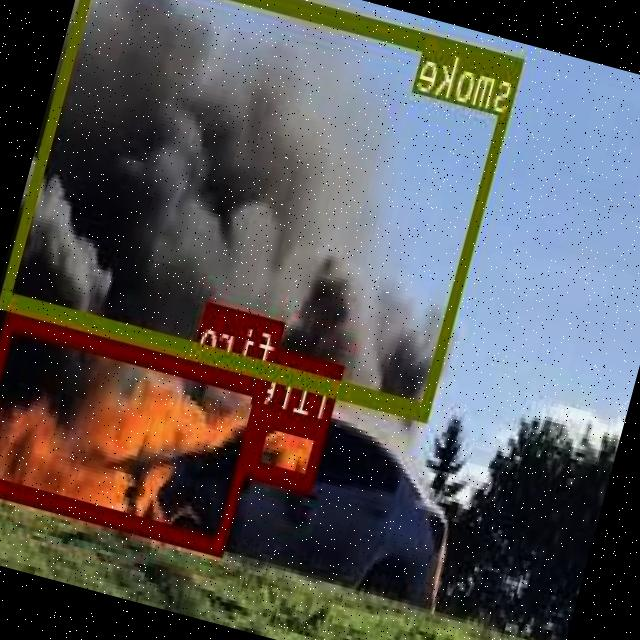fire: (0, 310, 271, 552), (248, 407, 330, 488)
smoke: (0, 0, 524, 417)
